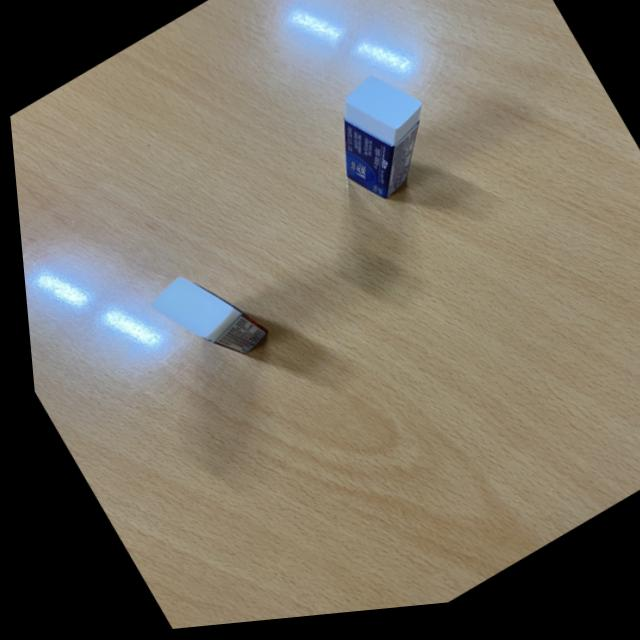blue: (298, 57, 461, 228)
red: (132, 247, 276, 395)
